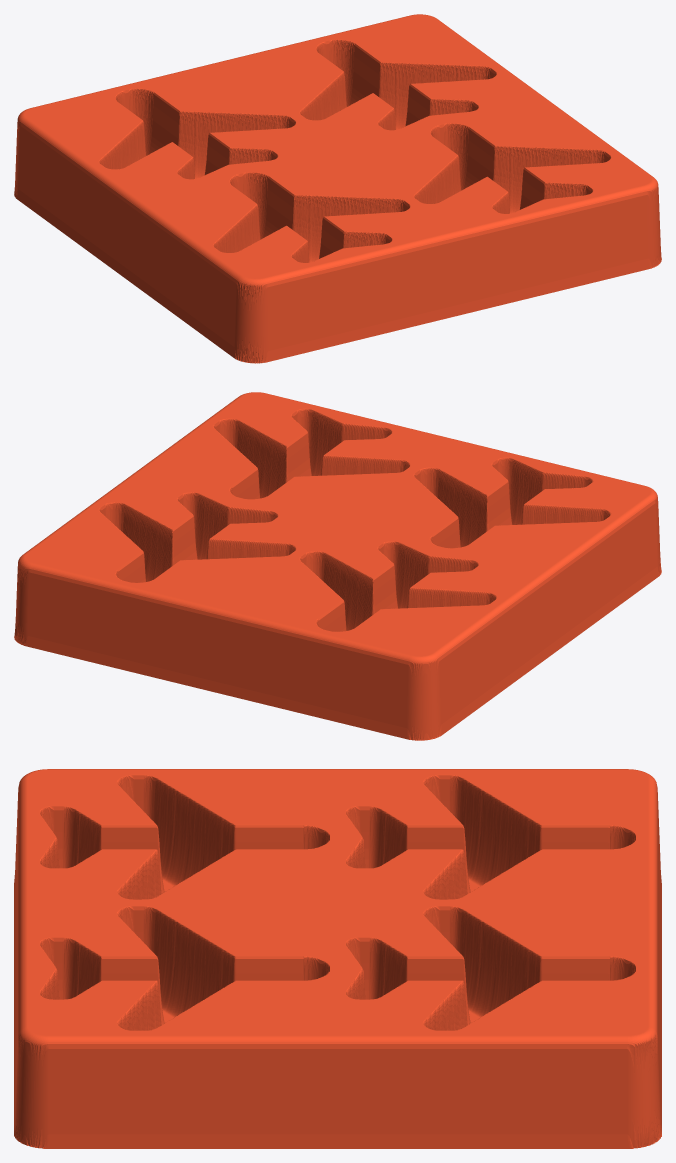
The model's file is mold.glb.
The picture shows the model from 3 angles, top to bottom: view 1: azimuth 30°, elevation 25°; view 2: azimuth 150°, elevation 25°; view 3: azimuth 270°, elevation 25°; orthographic projection. The views are drawn at different scales.
Visible parts, largest first — view 1: geometry_0; view 2: geometry_0; view 3: geometry_0.
Boxes of the visible parts, x1,y1,x2,y2 form: geometry_0: (14,14,661,363); geometry_0: (14,392,661,740); geometry_0: (14,769,661,1148).
Bounding box in the file's own units: 0.1721 × 0.031 × 0.1699.
